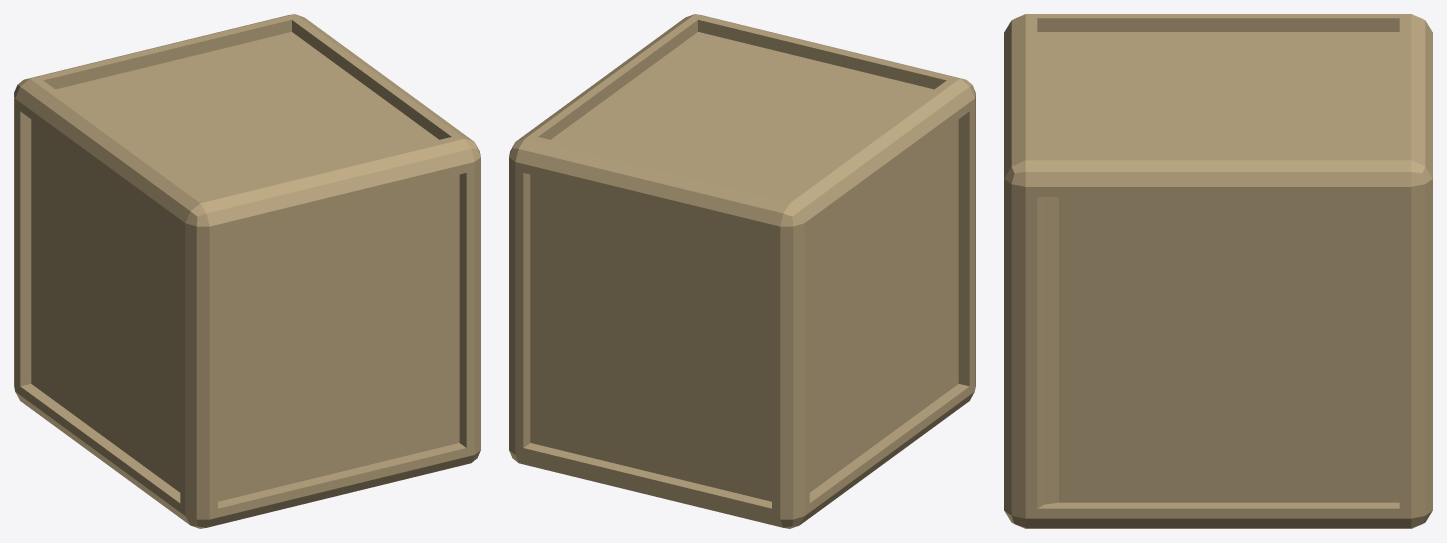
The model's file is dado.fbx.
3 views of the same model, side by side, from view 1: azimuth 30°, elevation 25°; view 2: azimuth 150°, elevation 25°; view 3: azimuth 270°, elevation 25° (orthographic). The views are drawn at different scales.
Visible parts, largest first — view 1: Box020; view 2: Box020; view 3: Box020.
Part boxes in pixels (left/top/right/bottom): Box020: left=14, top=14, right=480, bottom=528; Box020: left=509, top=14, right=975, bottom=528; Box020: left=1004, top=14, right=1432, bottom=528.
Bounding box in the file's own units: 2113 × 2234 × 2355.
